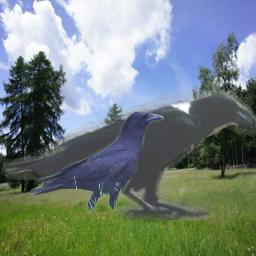Crow: (1, 90, 256, 220), (28, 110, 164, 220)
